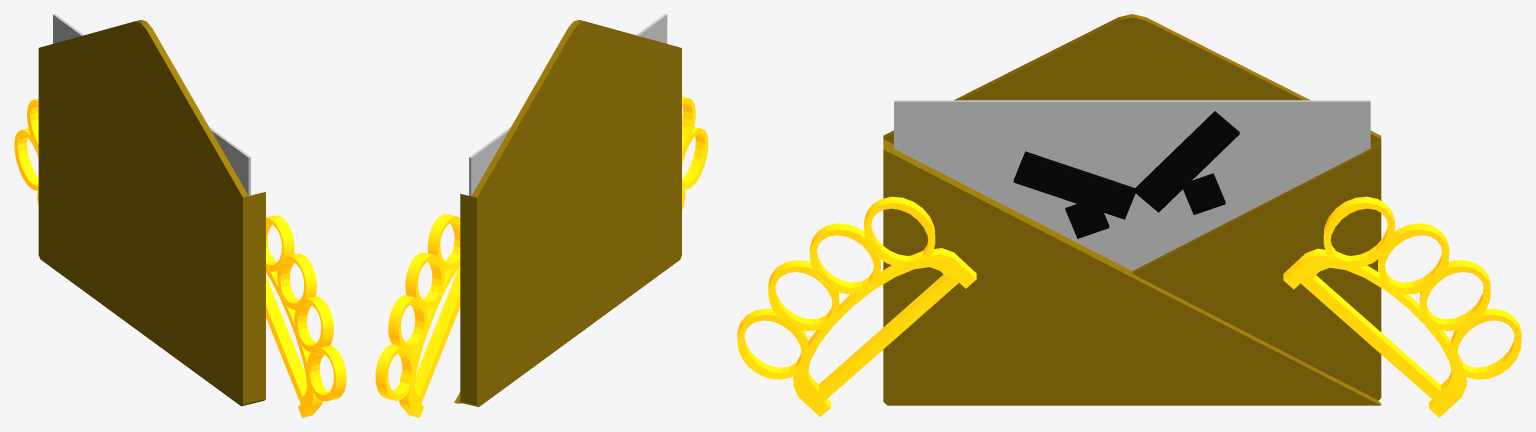
File: Lvl 5 Mail.fbx
The picture shows the model from 3 angles, left to right: view 1: azimuth 30°, elevation 25°; view 2: azimuth 150°, elevation 25°; view 3: azimuth 270°, elevation 25°; orthographic projection. The views are drawn at different scales.
Visible parts, largest first — view 1: Mail_Troop_; view 2: Mail_Troop_; view 3: Mail_Troop_.
Part boxes in pixels (x1,y1,x2,y2): Mail_Troop_: (14, 14, 346, 417); Mail_Troop_: (375, 14, 708, 417); Mail_Troop_: (737, 14, 1521, 417).
Size of the model in its own units: 0.1379 by 0.9255 by 1.74.
